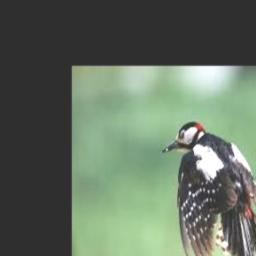Woodpecker: (161, 121, 256, 256)
